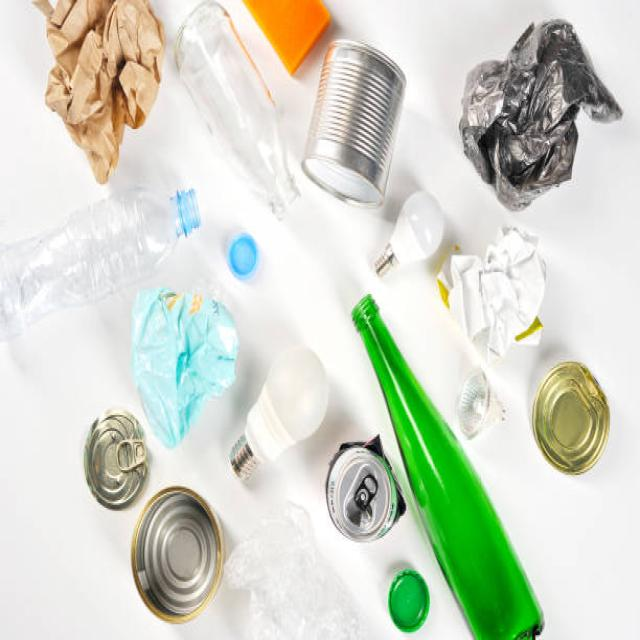metal: (321, 33, 402, 212), (126, 497, 232, 615), (318, 440, 410, 542), (538, 362, 618, 475), (71, 404, 150, 516)
paper: (28, 2, 175, 190)
plastic: (126, 263, 236, 434)
